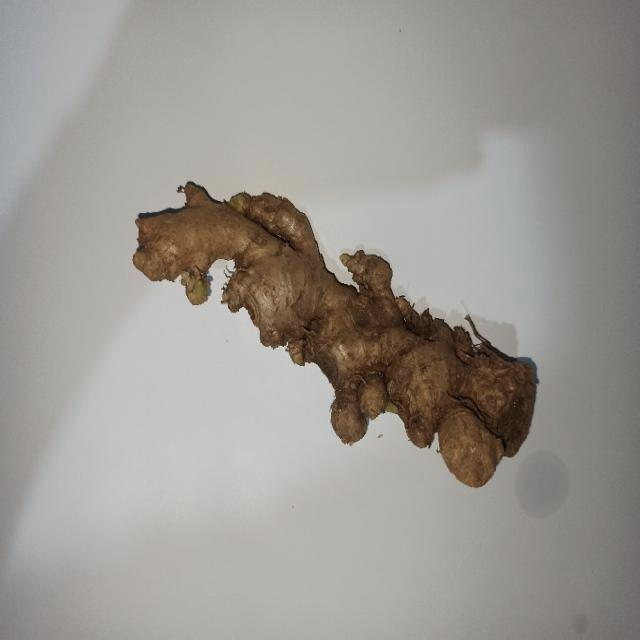ginger: (134, 179, 538, 493)
